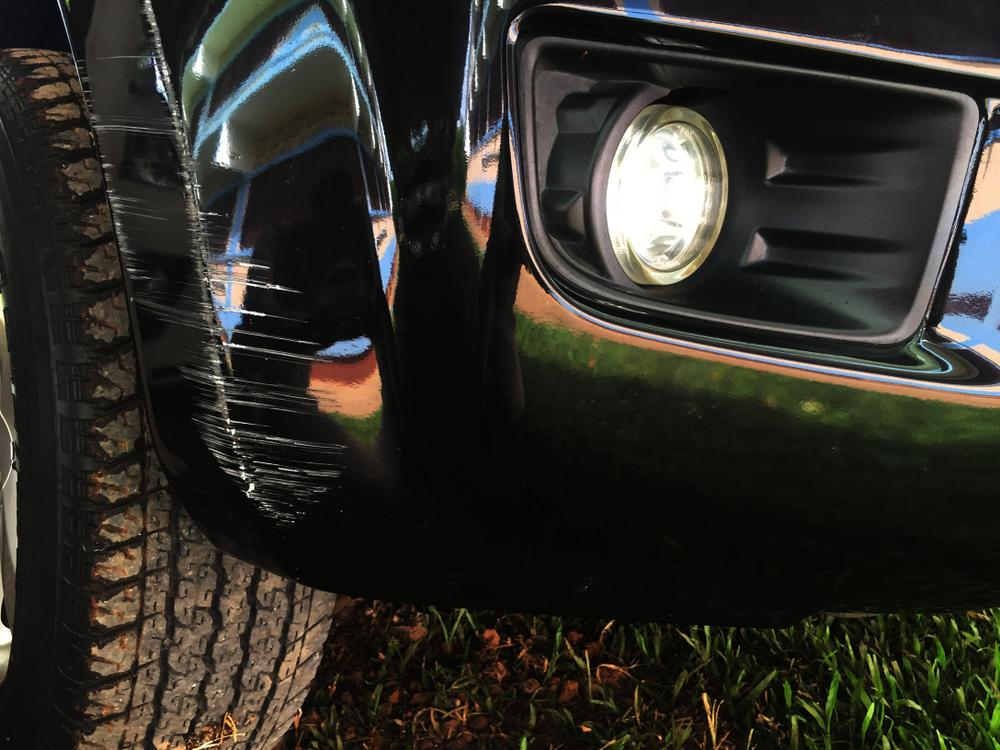scratch: (53, 0, 351, 528)
